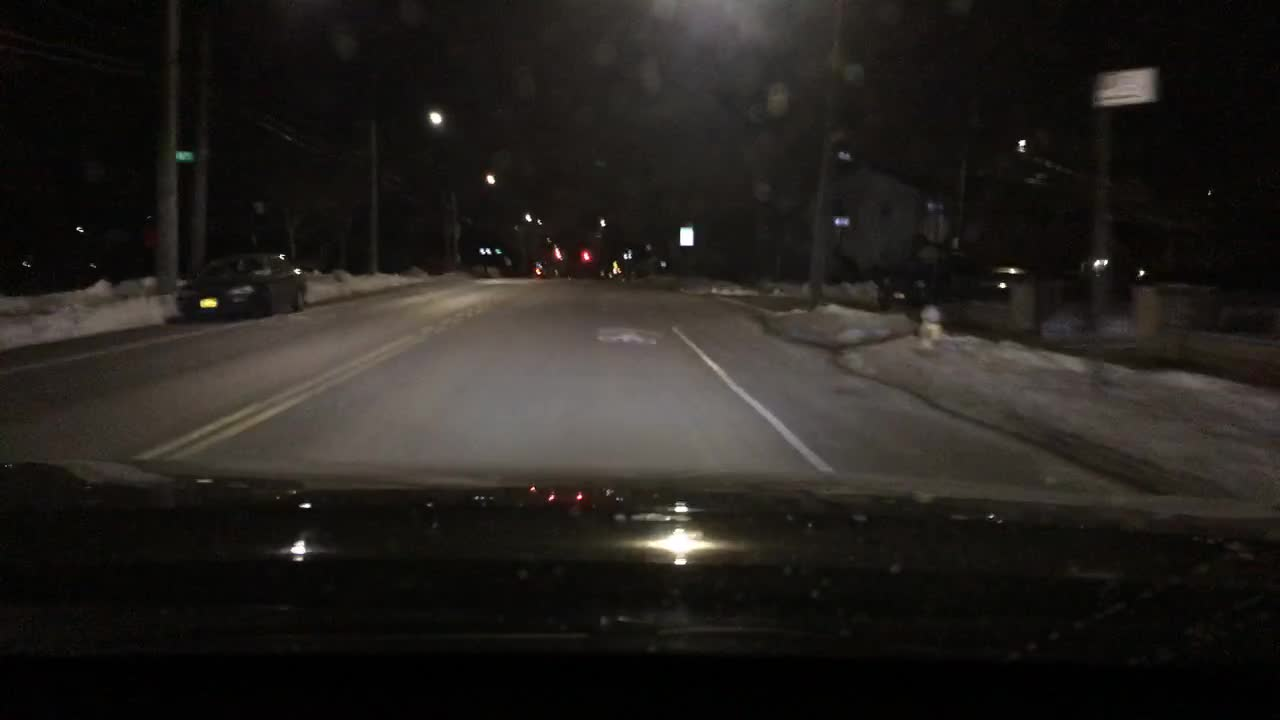car: (173, 249, 310, 324), (876, 271, 941, 307), (975, 266, 1030, 298), (531, 257, 558, 279)
traffic light: (577, 246, 590, 264)
traffic sign: (1094, 67, 1158, 106), (175, 149, 193, 161)
